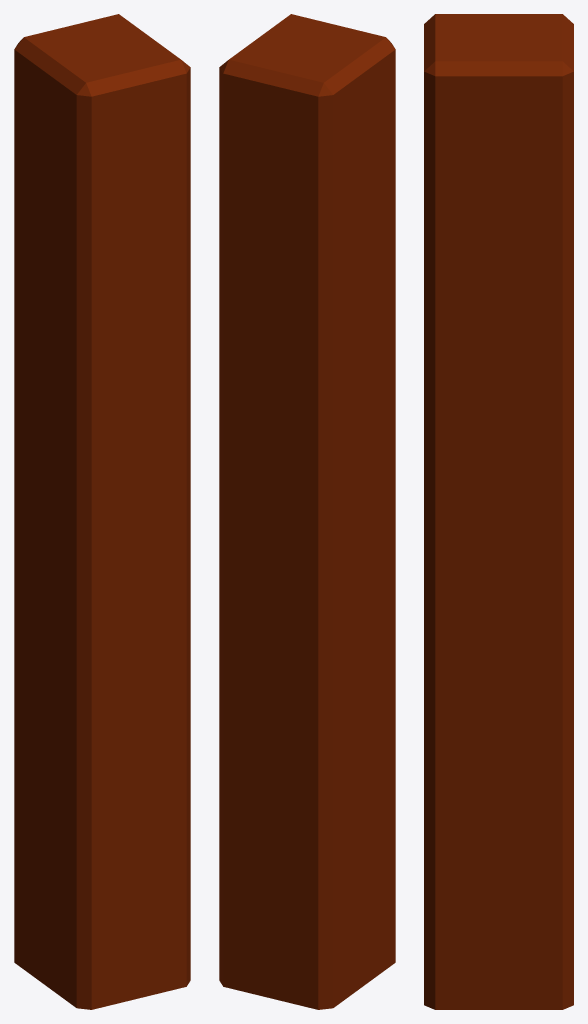
Rendered from NoiseBarrier_pole.fbx.
3 views of the same model, side by side, from view 1: azimuth 30°, elevation 25°; view 2: azimuth 150°, elevation 25°; view 3: azimuth 270°, elevation 25° (orthographic). The views are drawn at different scales.
Visible parts, largest first — view 1: Pole; view 2: Pole; view 3: Pole.
Part boxes in pixels (bbox=[...]): Pole: bbox=[14, 14, 190, 1009]; Pole: bbox=[219, 14, 395, 1009]; Pole: bbox=[424, 14, 573, 1009].
Bounding box in the file's own units: 38.65 × 299 × 43.06.
